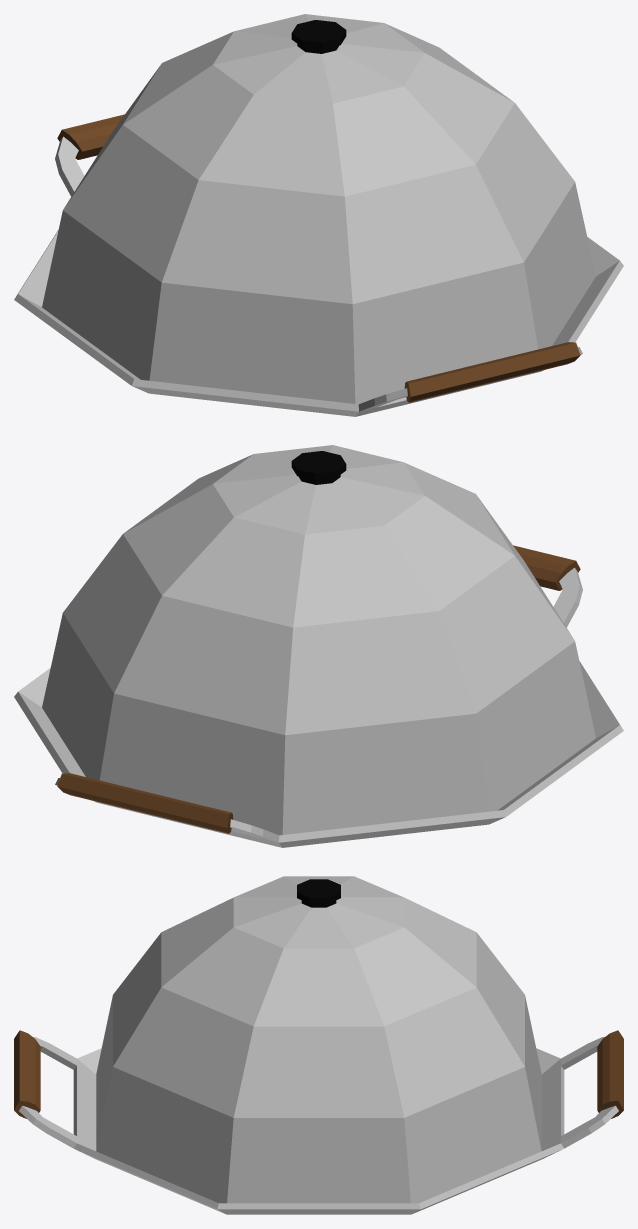
The model's file is Bandeja_Con_Tapa.fbx.
The picture shows the model from 3 angles, top to bottom: view 1: azimuth 30°, elevation 25°; view 2: azimuth 150°, elevation 25°; view 3: azimuth 270°, elevation 25°; orthographic projection. The views are drawn at different scales.
Visible parts, largest first — view 1: Bandeja_Con_Tapa; view 2: Bandeja_Con_Tapa; view 3: Bandeja_Con_Tapa.
Part boxes in pixels (x1,y1,x2,y2): Bandeja_Con_Tapa: (14,14,623,416); Bandeja_Con_Tapa: (14,445,623,847); Bandeja_Con_Tapa: (14,876,623,1214).
Bounding box in the file's own units: 57.17 × 29.79 × 71.08.
